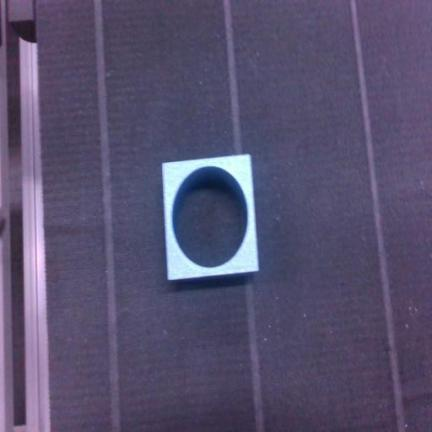square: (162, 155, 259, 280)
